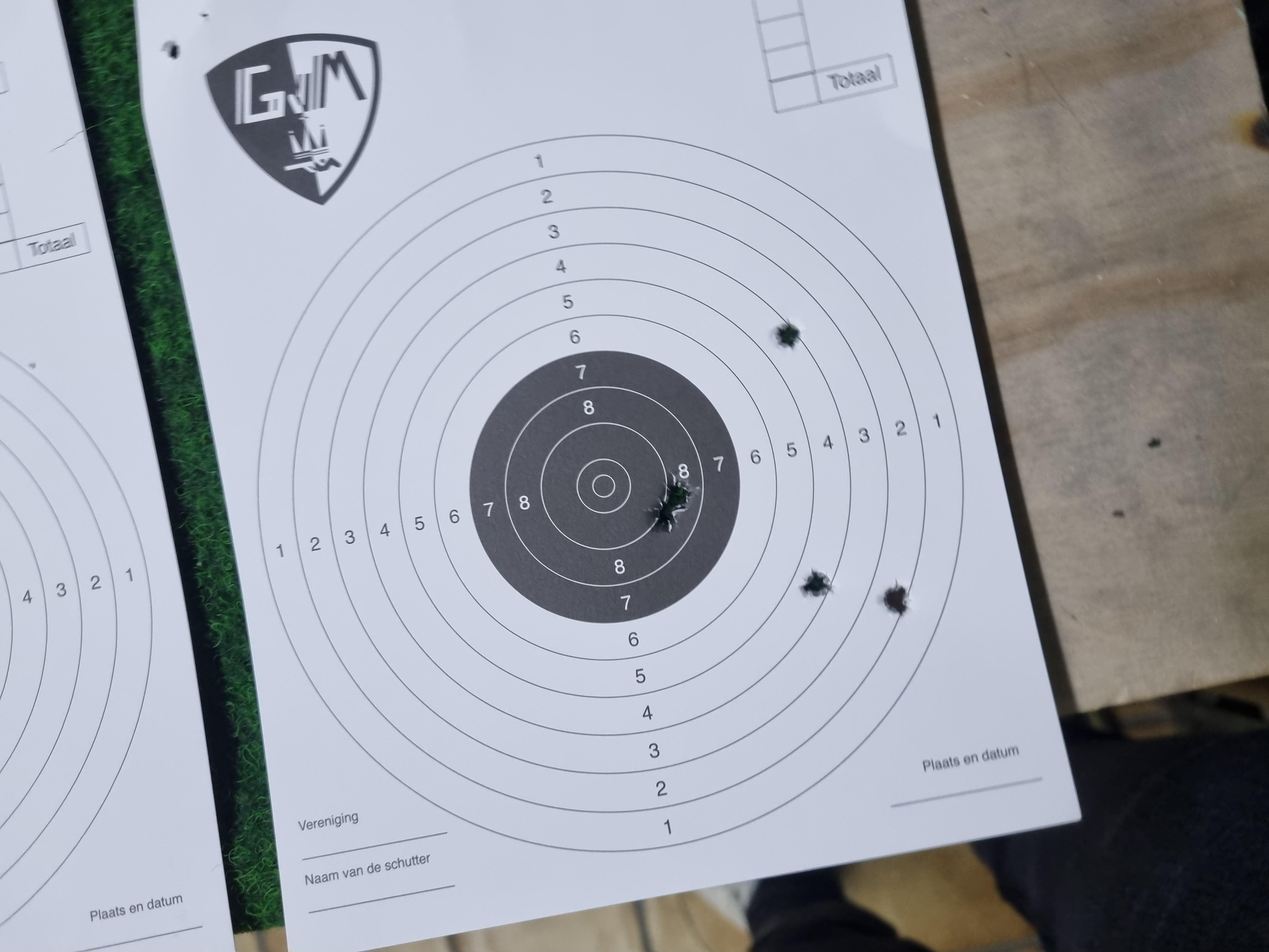hole: (560, 487, 609, 510), (447, 662, 497, 684), (471, 600, 511, 627), (587, 499, 640, 519), (802, 582, 843, 602)
